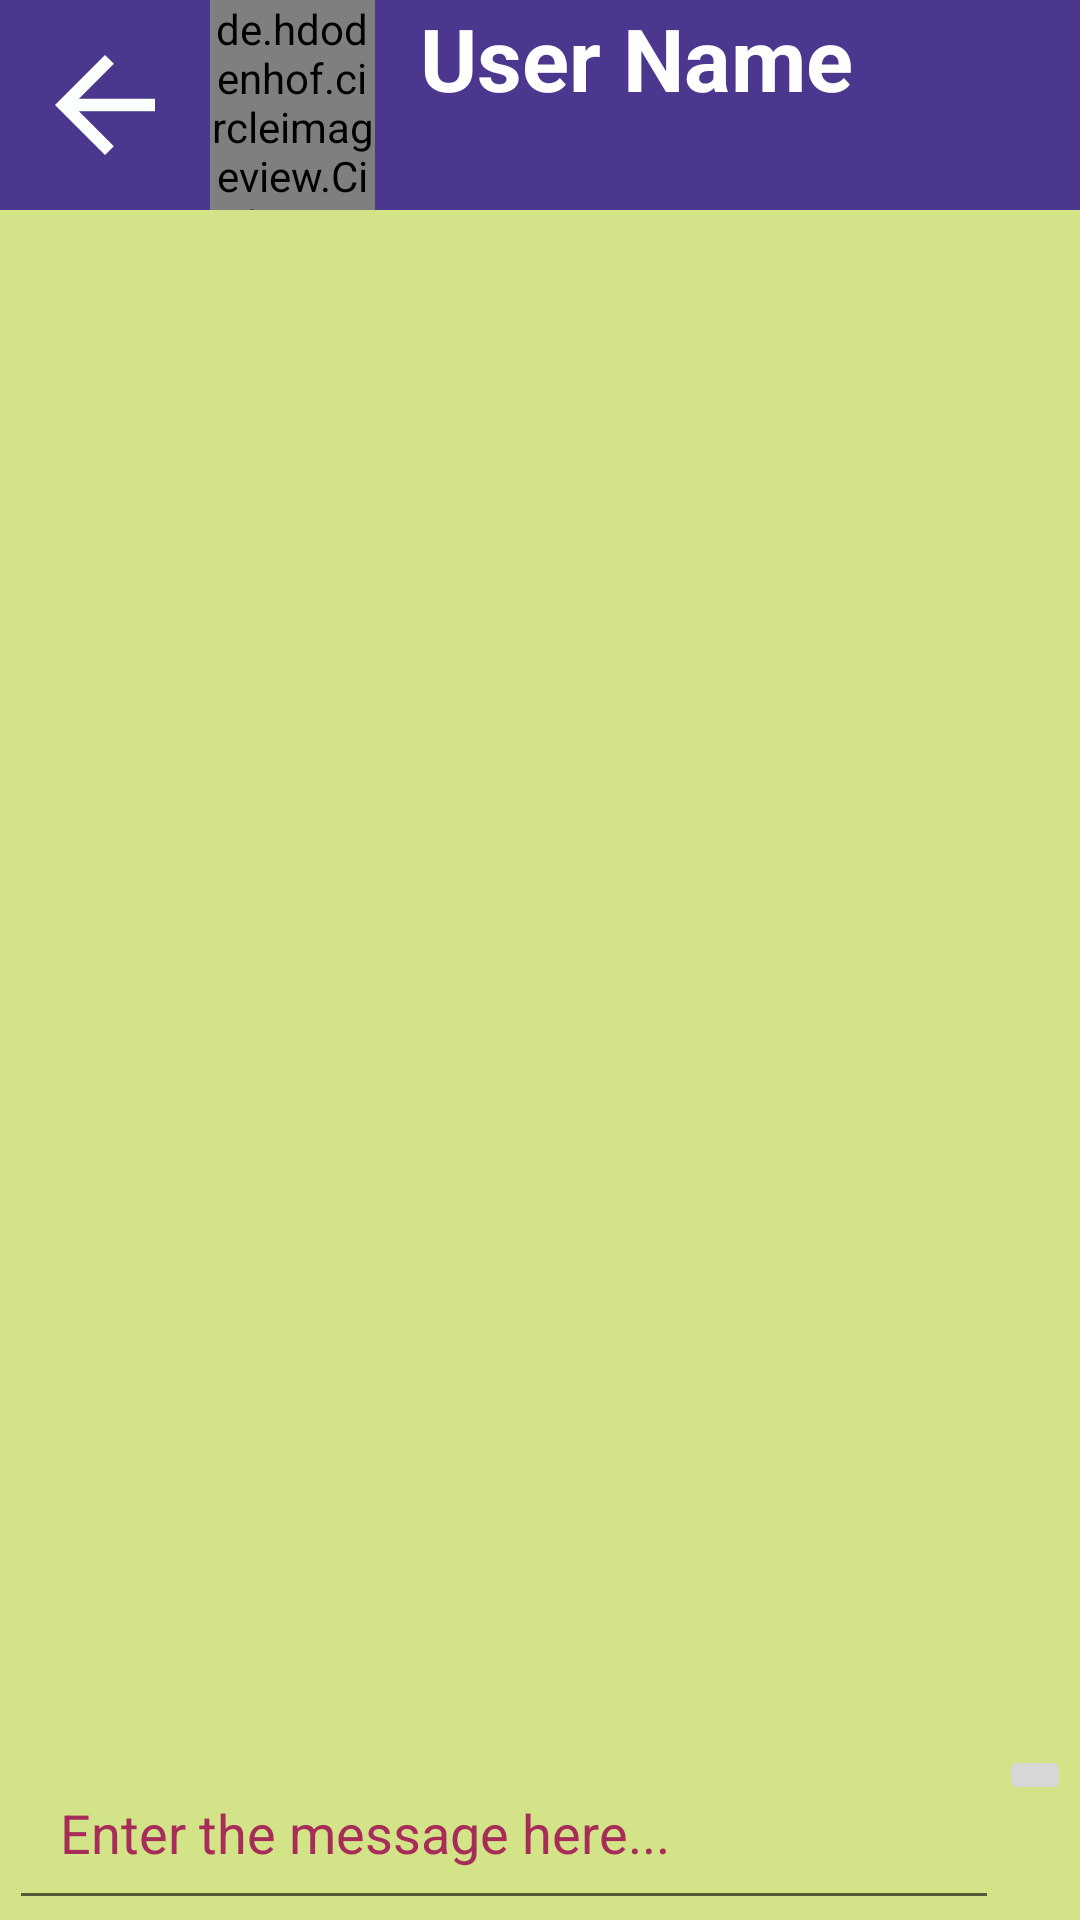

Icons on this 1080x1920 Android screen, each with its box as [x1,y1,x2,y2]:
arrow back: [55,55,155,155]
